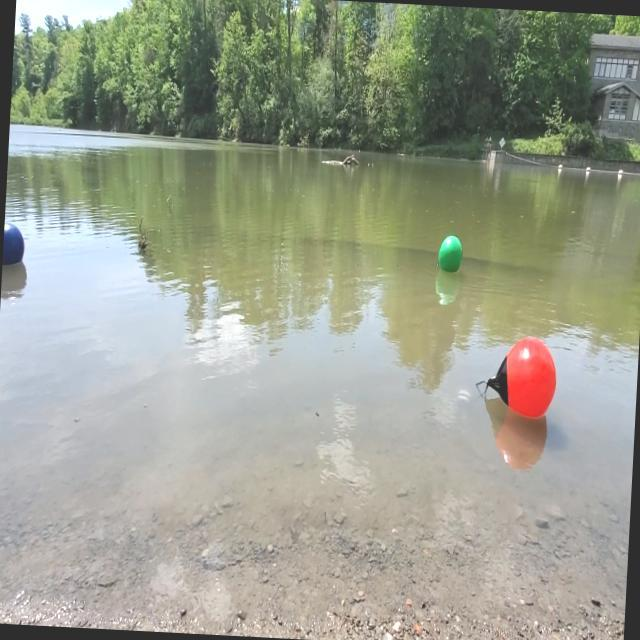buoy: (474, 331, 560, 426), (434, 231, 466, 275), (2, 221, 30, 264)
